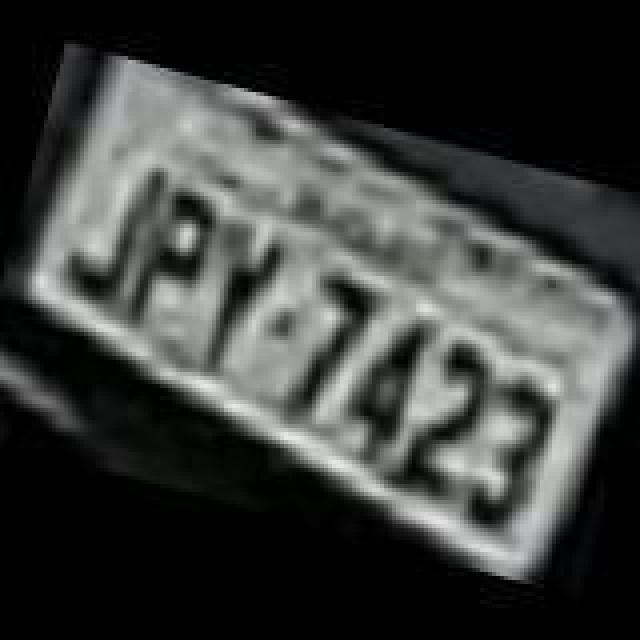2: (386, 334, 502, 514)
3: (440, 368, 560, 544)
4: (328, 296, 440, 472)
7: (270, 258, 386, 438)
J: (48, 152, 160, 312)
P: (118, 176, 226, 336)
Y: (194, 214, 294, 378)
